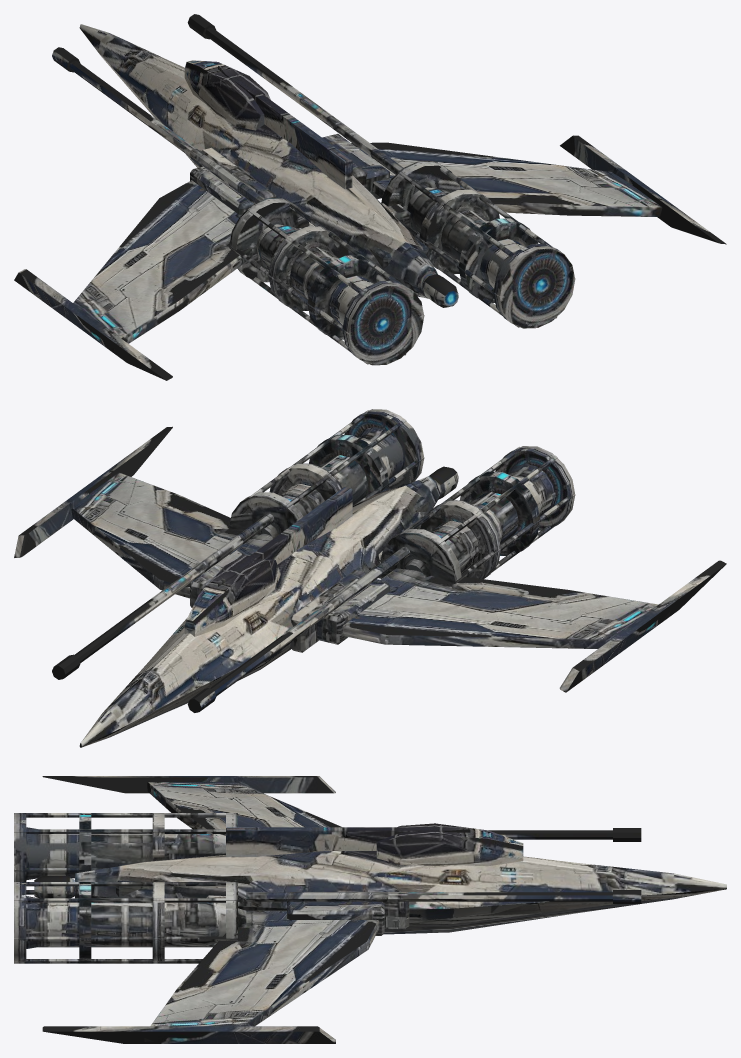
Rendered from interceptor-c.glb.
3 renders of one model, top to bottom at view 1: azimuth 30°, elevation 25°; view 2: azimuth 150°, elevation 25°; view 3: azimuth 270°, elevation 25°, orthographic. The views are drawn at different scales.
Parts seen in each view (by area): view 1: hero_interceptor_engines_c, hero_interceptor_wings_c, hero_interceptor_hull_c, hero_interceptor_cockpit_c; view 2: hero_interceptor_wings_c, hero_interceptor_engines_c, hero_interceptor_hull_c, hero_interceptor_cockpit_c; view 3: hero_interceptor_engines_c, hero_interceptor_hull_c, hero_interceptor_wings_c, hero_interceptor_cockpit_c.
Boxes of the visible parts, x1,y1,x2,y2 form: hero_interceptor_engines_c: (52,14,575,365); hero_interceptor_wings_c: (14,133,726,380); hero_interceptor_hull_c: (79,24,437,298); hero_interceptor_cockpit_c: (184,60,270,130); hero_interceptor_wings_c: (14,426,726,692); hero_interceptor_engines_c: (52,409,575,712); hero_interceptor_hull_c: (79,475,440,747); hero_interceptor_cockpit_c: (184,555,280,636); hero_interceptor_engines_c: (14,813,641,963); hero_interceptor_hull_c: (75,827,726,934); hero_interceptor_wings_c: (42,776,384,1043); hero_interceptor_cockpit_c: (376,823,523,866).
Size of the model in its own units: 1.48 by 0.29 by 1.75.
1 material, 1 textured.
